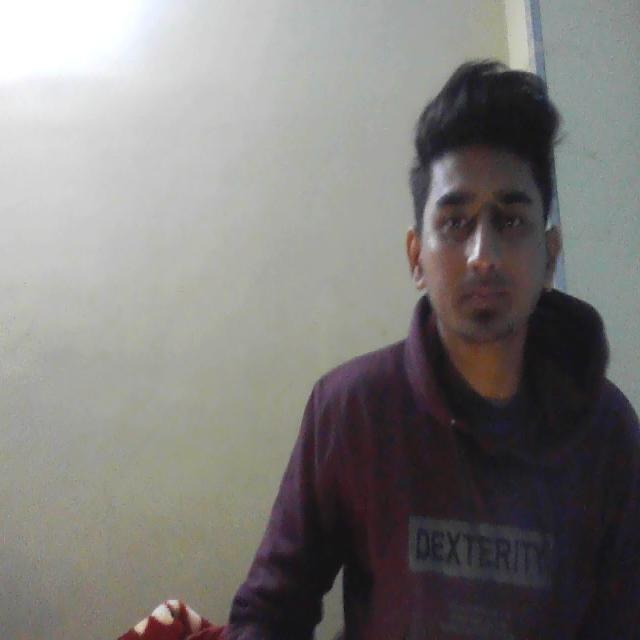real: (408, 71, 570, 376)
